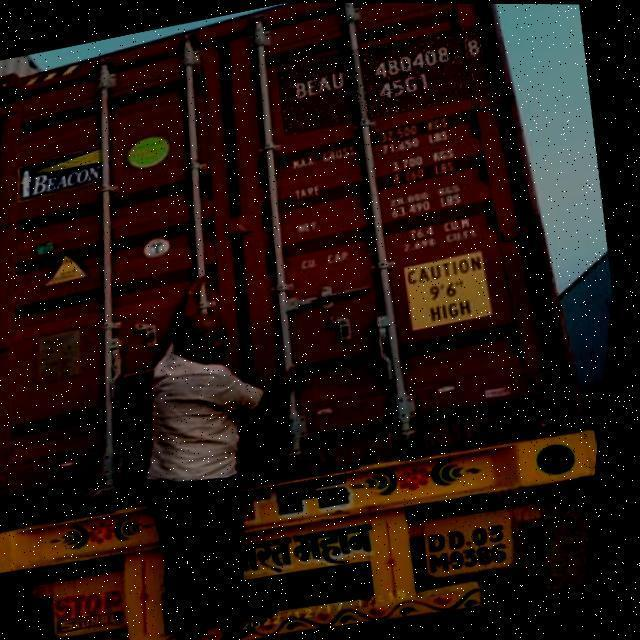container_number_h: (272, 19, 505, 136)
